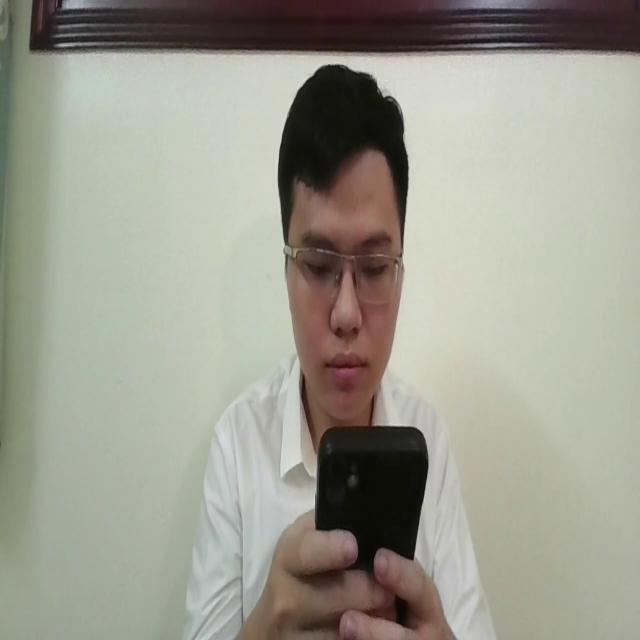phone: (311, 419, 425, 611)
student: (183, 59, 493, 640)
